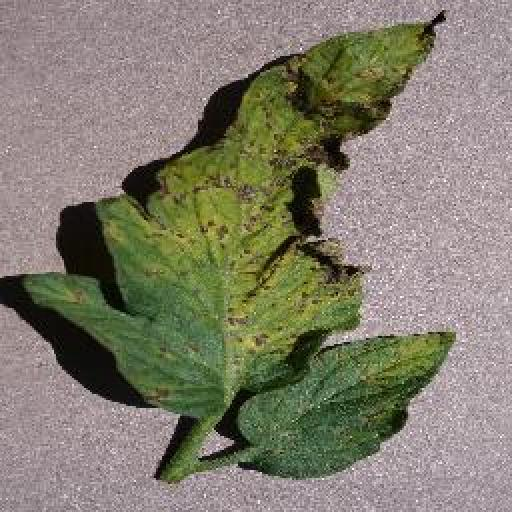Septoria: (22, 10, 457, 418), (226, 323, 462, 481)
